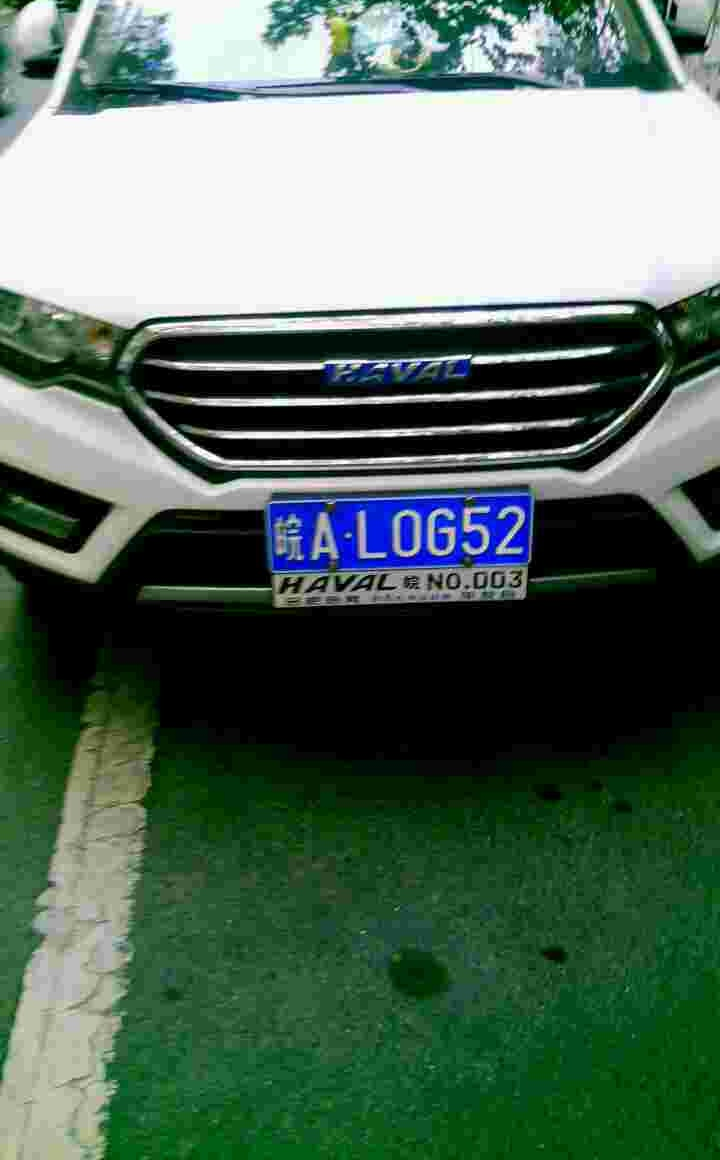license_plate: (258, 496, 521, 580)
